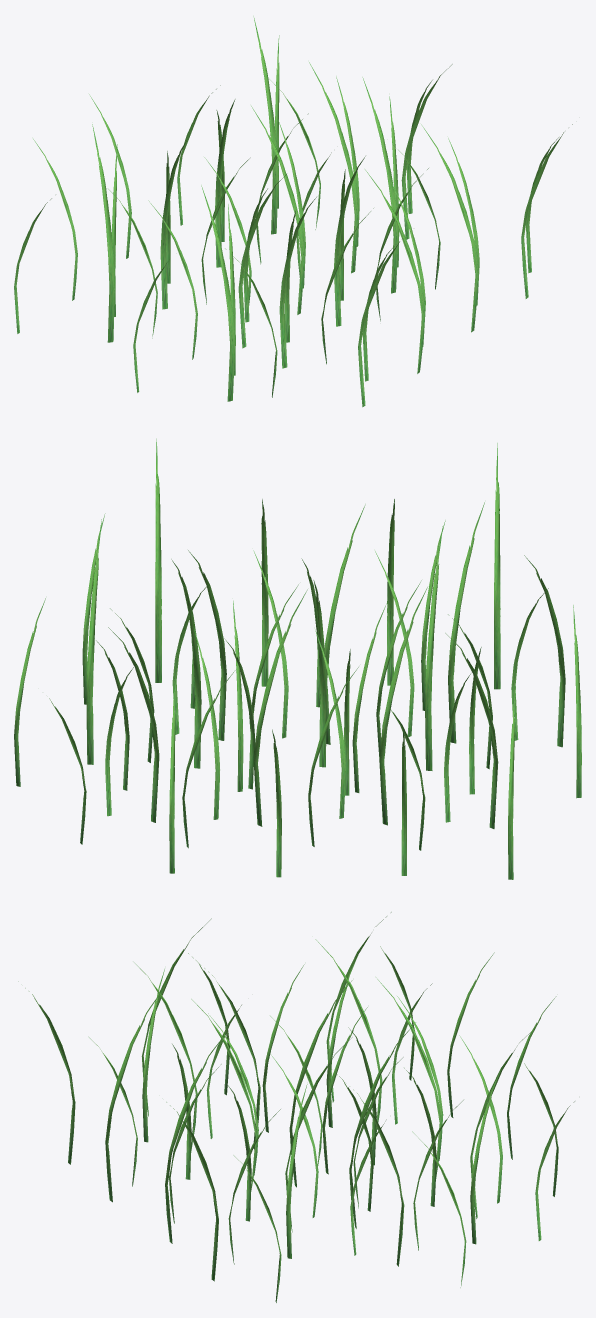
Rendered from grass 1.FBX.
3 views of the same model, one above another, from view 1: azimuth 30°, elevation 25°; view 2: azimuth 150°, elevation 25°; view 3: azimuth 270°, elevation 25° (orthographic). The views are drawn at different scales.
Parts seen in each view (by area): view 1: Plane039, Plane032, Plane021, Plane002, Plane038, Plane035, Plane020, Plane005, Plane044, Plane011, Plane033, Plane014 (+6 smaller); view 2: Plane008, Plane026, Plane041, Plane023, Plane020, Plane038, Plane033, Plane035, Plane044, Plane011, Plane002, Plane021 (+29 smaller); view 3: Plane014, Plane011, Plane010, Plane025, Plane034, Plane008, Plane023, Plane035, Plane044, Plane033, Plane043, Plane026 (+11 smaller).
Boxes of the visible parts, box(x1,y1,x2,y2) form: Plane039: box(92, 124, 114, 342); Plane032: box(253, 16, 278, 234); Plane021: box(201, 185, 235, 401); Plane002: box(362, 77, 398, 293); Plane038: box(160, 139, 187, 309); Plane035: box(309, 62, 358, 273); Plane020: box(279, 197, 316, 368); Plane005: box(334, 156, 365, 326); Plane044: box(251, 106, 304, 314); Plane011: box(421, 124, 478, 332); Plane033: box(215, 99, 235, 267); Plane014: box(365, 169, 424, 373); Plane008: box(155, 438, 161, 682); Plane026: box(86, 519, 101, 764); Plane041: box(425, 526, 442, 770); Plane023: box(494, 443, 500, 689); Plane020: box(448, 502, 484, 743); Plane038: box(379, 587, 427, 825); Plane033: box(253, 589, 307, 826); Plane035: box(181, 580, 201, 768); Plane044: box(313, 580, 326, 767); Plane011: box(261, 499, 268, 686); Plane002: box(188, 550, 226, 740); Plane021: box(524, 555, 565, 747); Plane014: box(105, 990, 162, 1202); Plane011: box(165, 1033, 225, 1243); Plane010: box(286, 1084, 307, 1258); Plane025: box(142, 969, 164, 1142); Plane034: box(470, 1071, 500, 1244); Plane008: box(166, 1102, 218, 1281); Plane023: box(18, 981, 75, 1164); Plane035: box(349, 1022, 415, 1228); Plane044: box(289, 980, 352, 1187); Plane033: box(376, 977, 441, 1178); Plane043: box(326, 954, 358, 1127); Plane026: box(342, 1079, 404, 1266).
Size of the model in its own units: 250 by 105 by 263.
Materials: 1 (1 with a texture image).
